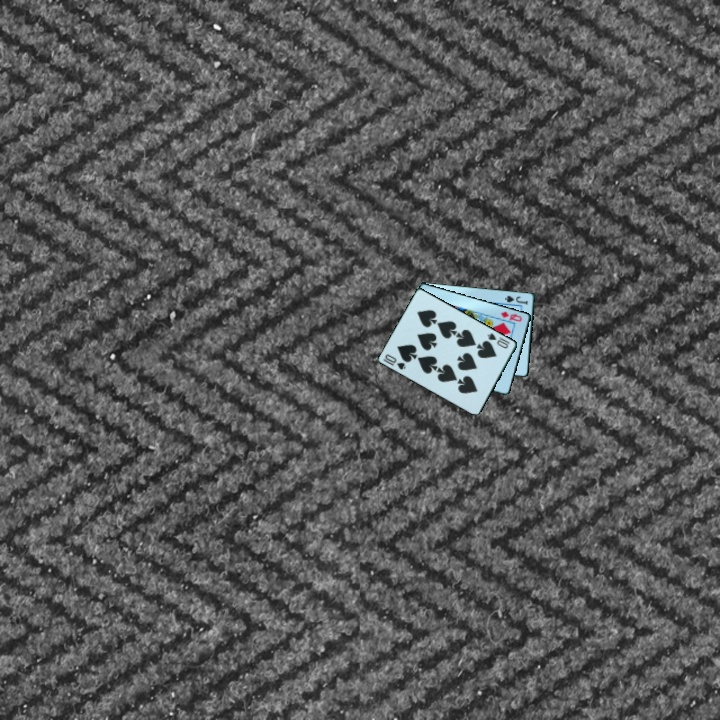10s: (380, 351, 409, 373), (485, 329, 513, 351)
Js: (502, 292, 531, 307)
Qd: (497, 308, 525, 324)
